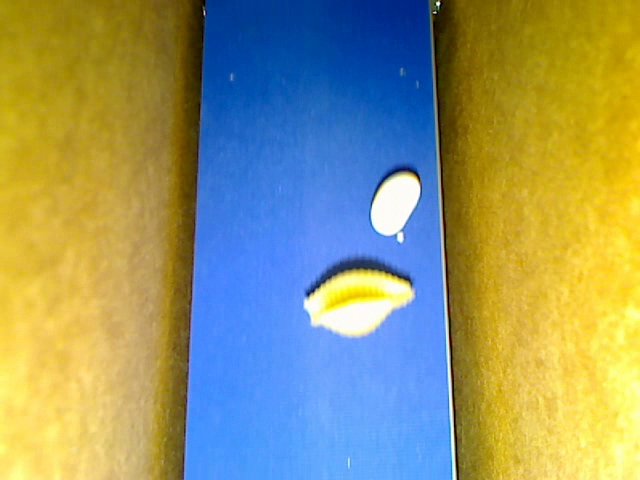shell: (303, 268, 416, 339)
